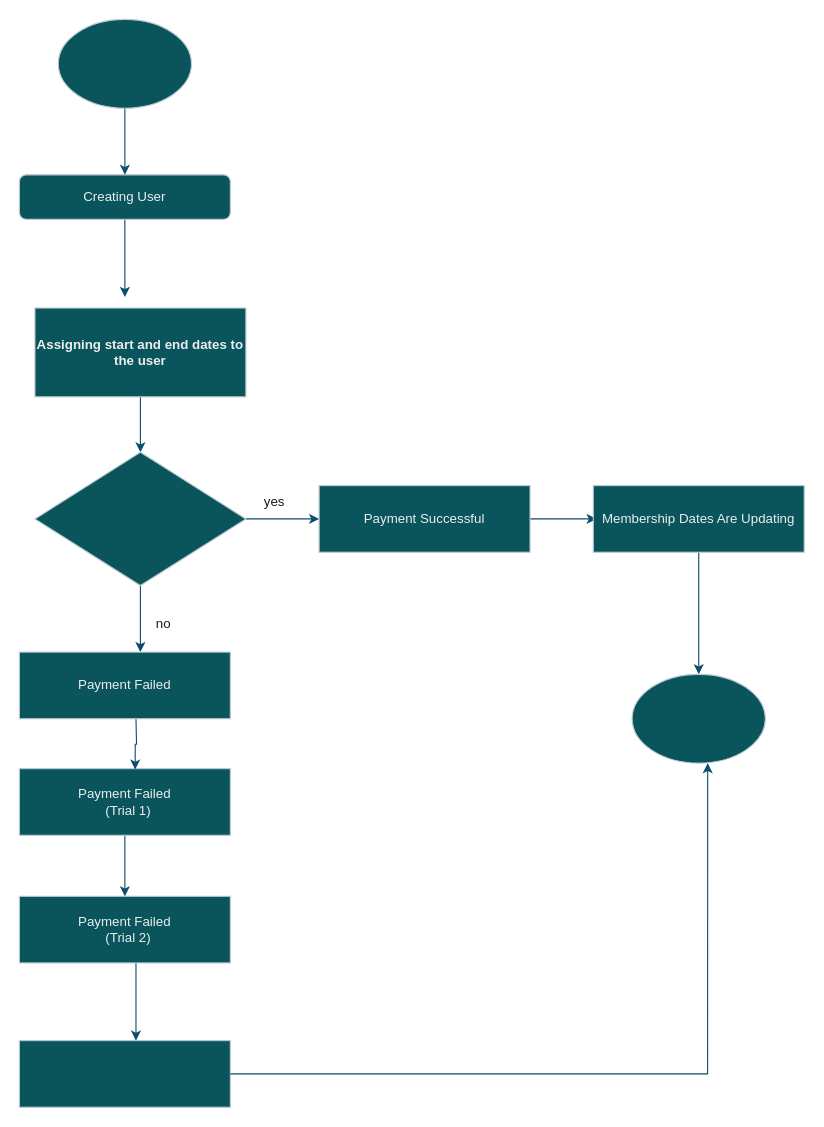
Some shapes in this 824 by 1127 pixel diagram are drawn without their labels. Here are the shapes that lost their labels. From the top down, the centre of each, then its label:
point (124, 63): START
point (140, 518): Payment Process Beginning
point (698, 718): STOP
point (124, 1073): Terminate Membership (To inform)
